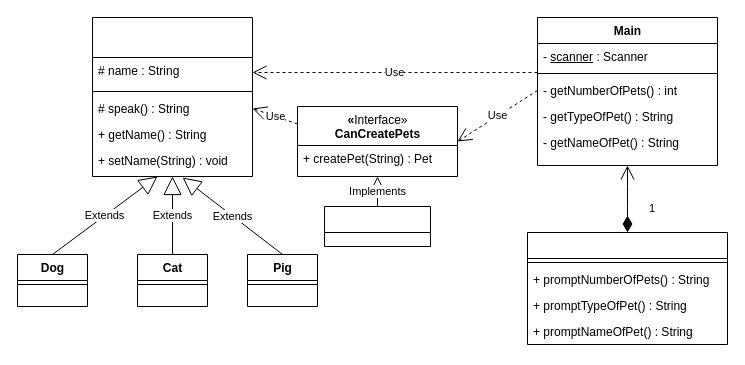
This 745x365 diagram has some shape labels left out. Each missing label, with the box of its shape:
Display: (526, 232, 728, 344)
PetFactory: (324, 206, 430, 246)
« abstract» Pet: (92, 16, 252, 176)
